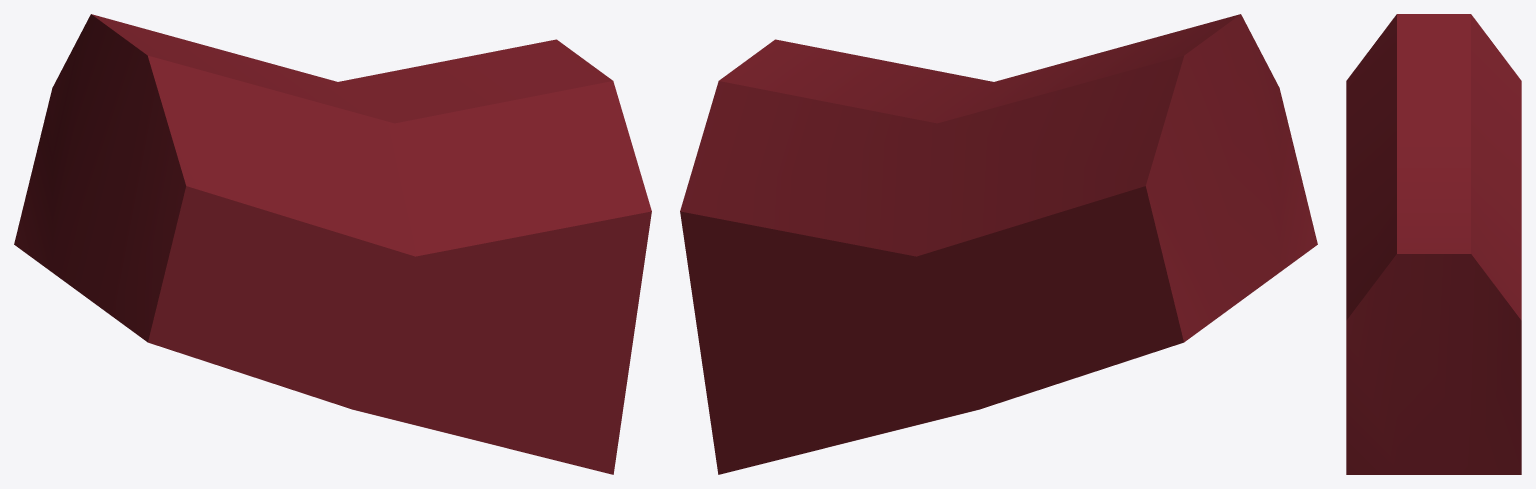
Rendered from BRoofTriangleTrimEnd_A.fbx.
The picture shows the model from 3 angles, left to right: view 1: azimuth 30°, elevation 25°; view 2: azimuth 150°, elevation 25°; view 3: azimuth 270°, elevation 25°; orthographic projection. The views are drawn at different scales.
Parts seen in each view (by area): view 1: BRoofTriangle_TrimEnd_A.006; view 2: BRoofTriangle_TrimEnd_A.006; view 3: BRoofTriangle_TrimEnd_A.006.
Boxes of the visible parts, x1,y1,x2,y2 form: BRoofTriangle_TrimEnd_A.006: (14, 14, 651, 474); BRoofTriangle_TrimEnd_A.006: (680, 14, 1317, 474); BRoofTriangle_TrimEnd_A.006: (1346, 14, 1521, 474).
Bounding box in the file's own units: 103 × 96.48 × 47.25.
